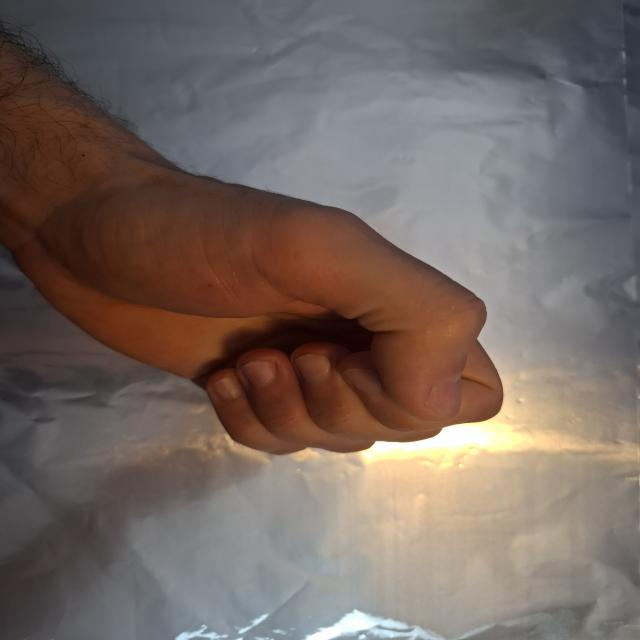glove_off: (9, 148, 509, 456)
